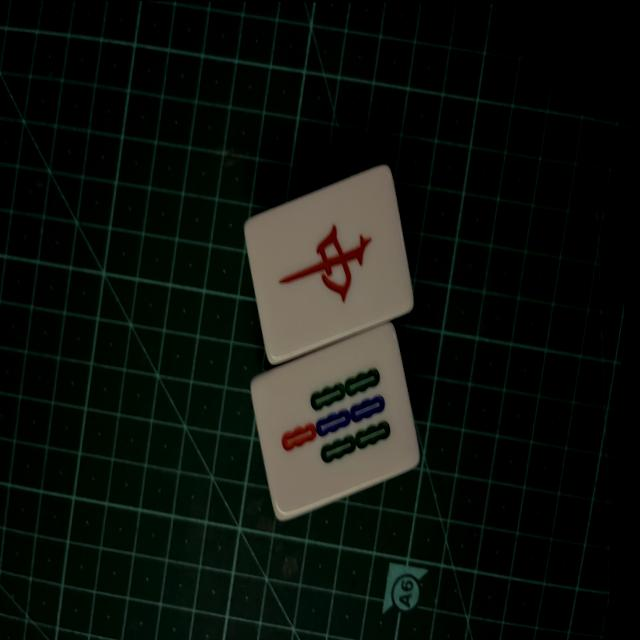s7: (246, 325, 428, 518)
zhong: (241, 171, 418, 352)
